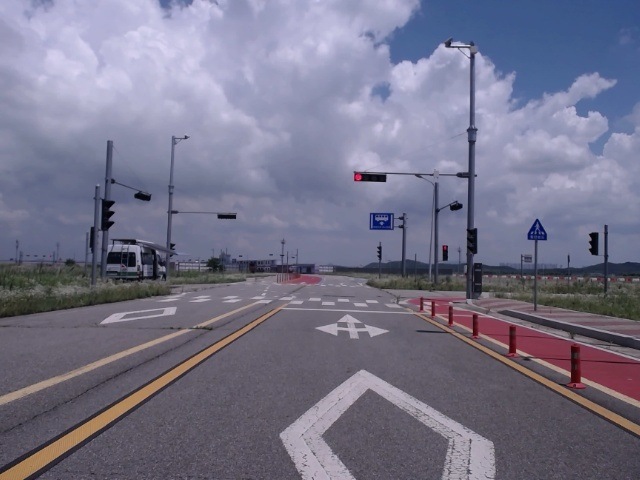red_4: (354, 173, 386, 182)
